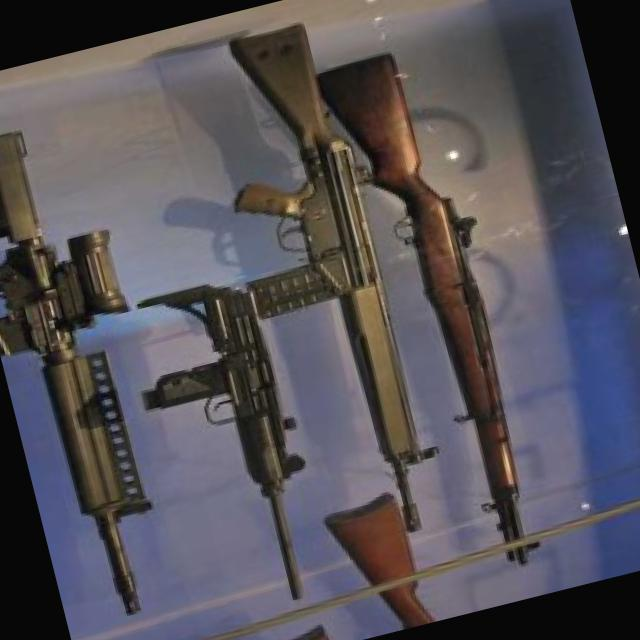long weapon: (308, 24, 574, 590), (213, 10, 464, 531), (0, 55, 226, 603), (120, 224, 357, 622)
